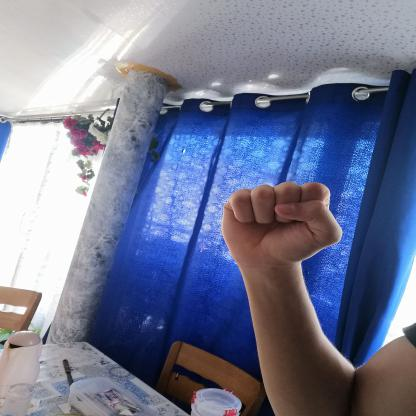SAD: (201, 169, 356, 277)
